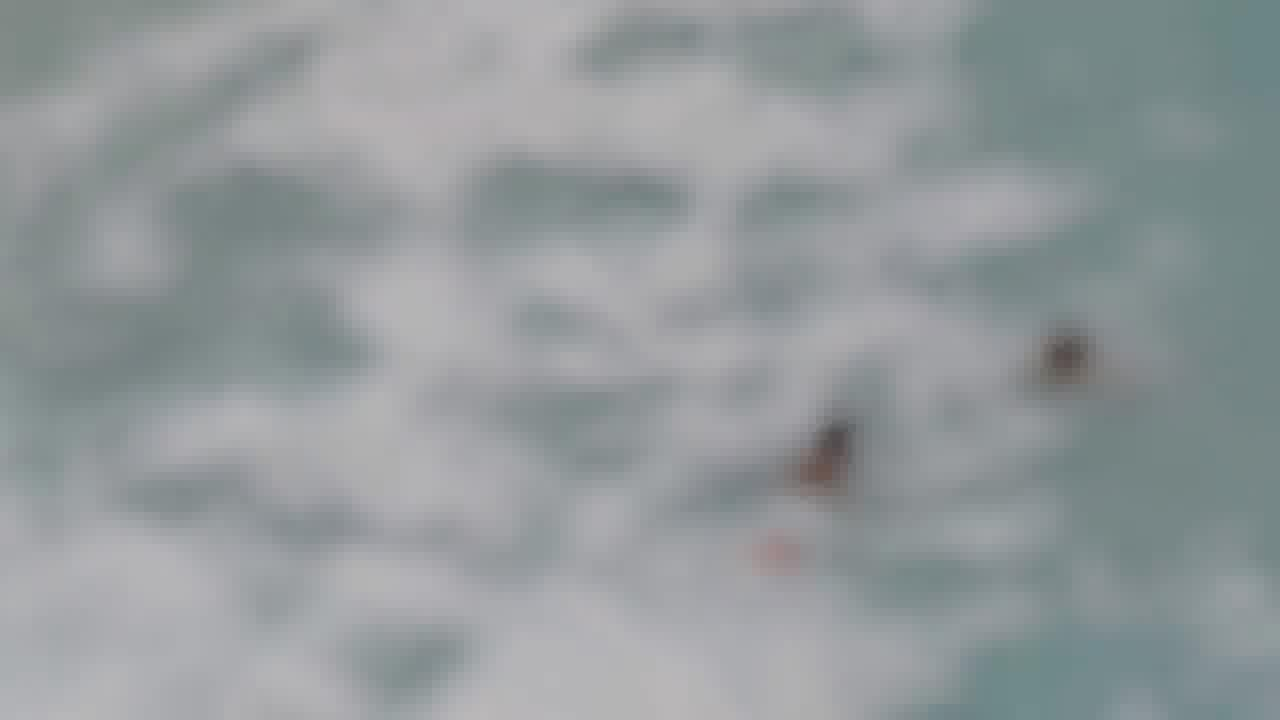swimmer: (791, 413, 857, 477), (1035, 324, 1095, 382)
